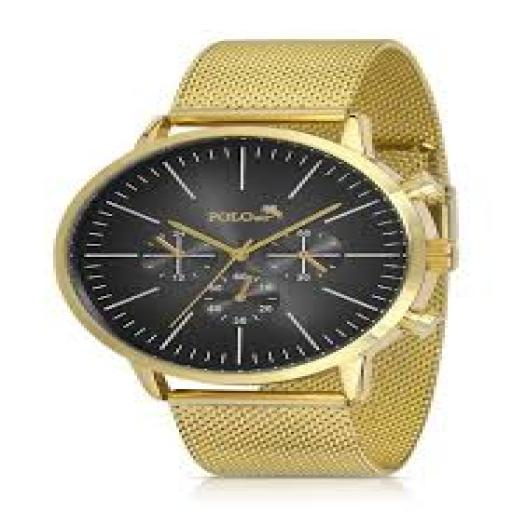KolSaati: (69, 28, 473, 490)
